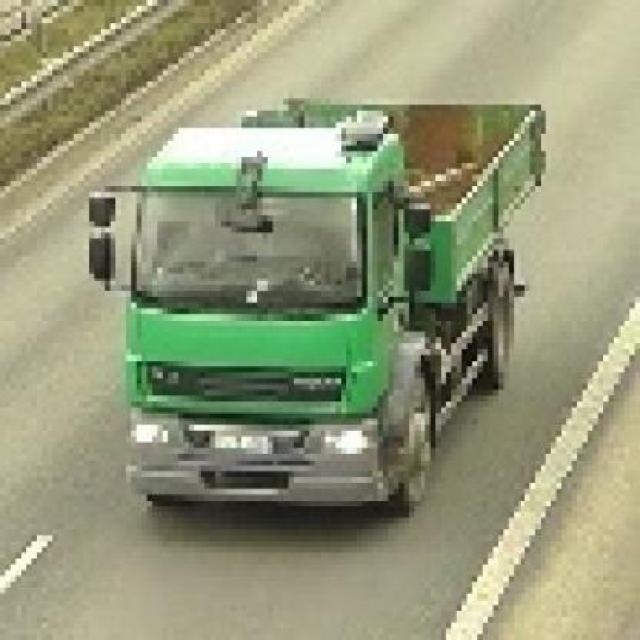truck: (86, 83, 541, 514)
